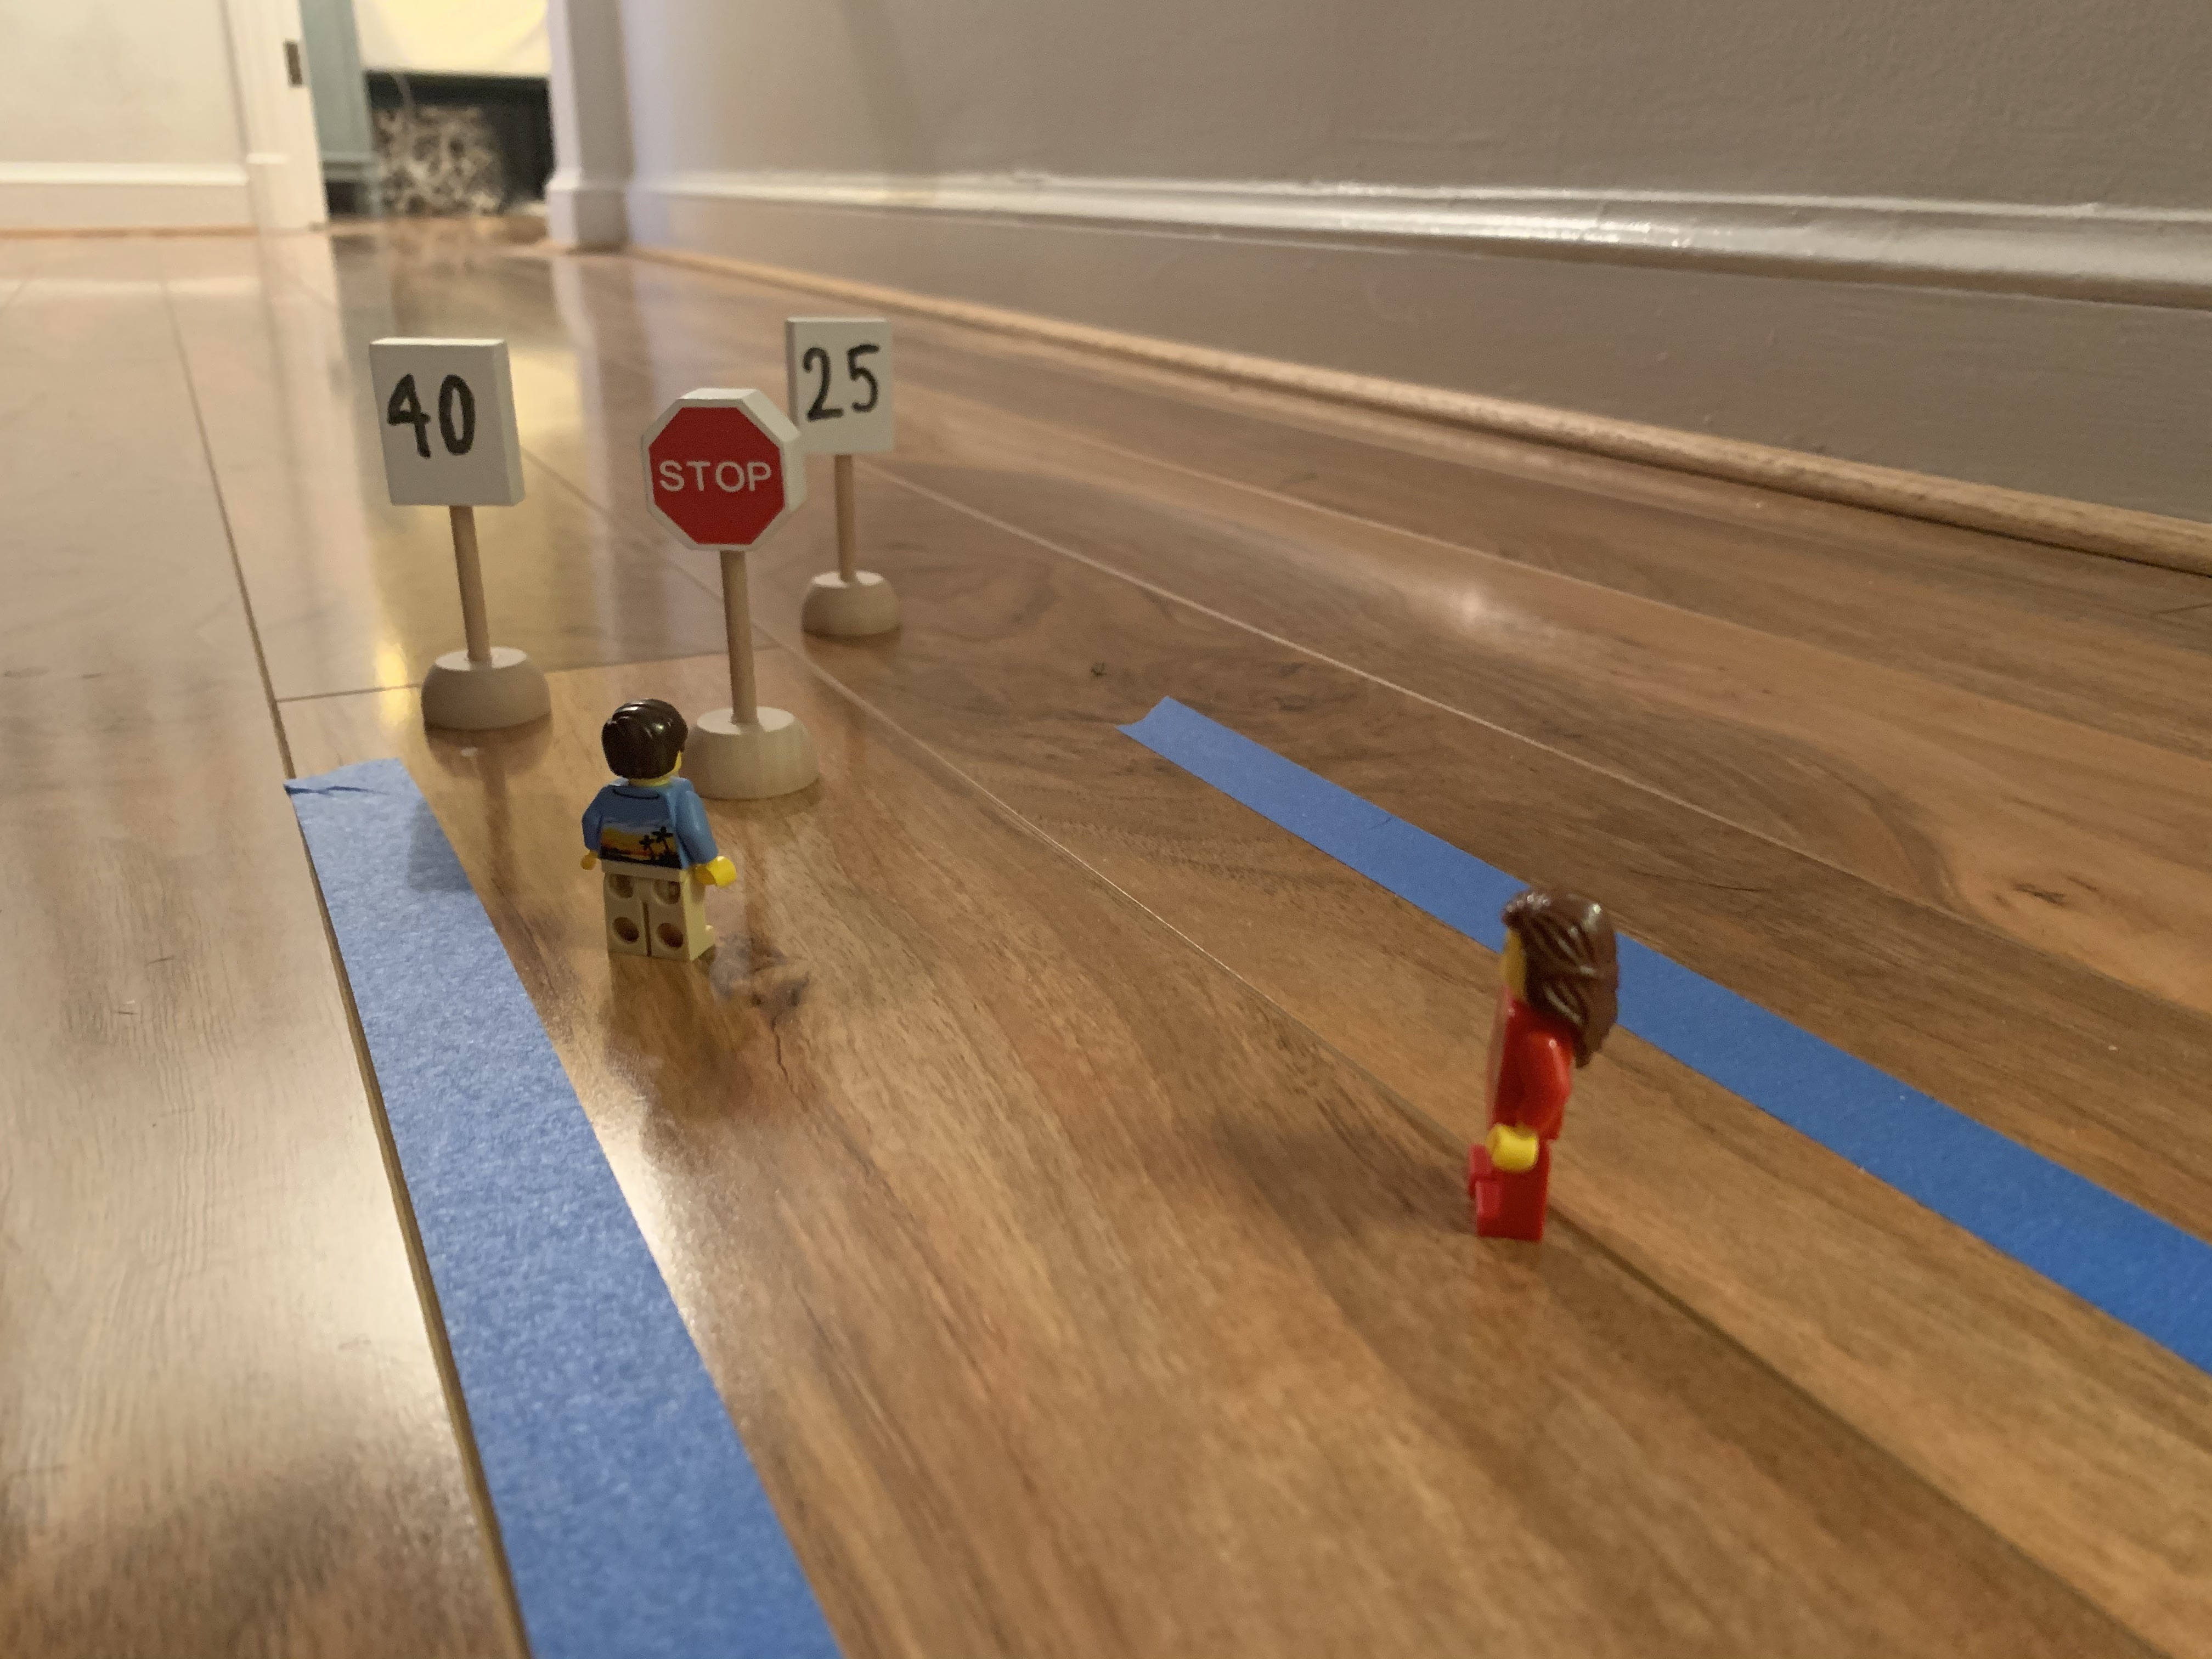Person: (1451, 878, 1646, 1259), (566, 697, 755, 985)
Speed Limit 25: (789, 320, 891, 450)
Speed Limit 40: (366, 342, 526, 504)
Stop Sign: (640, 390, 797, 556)
